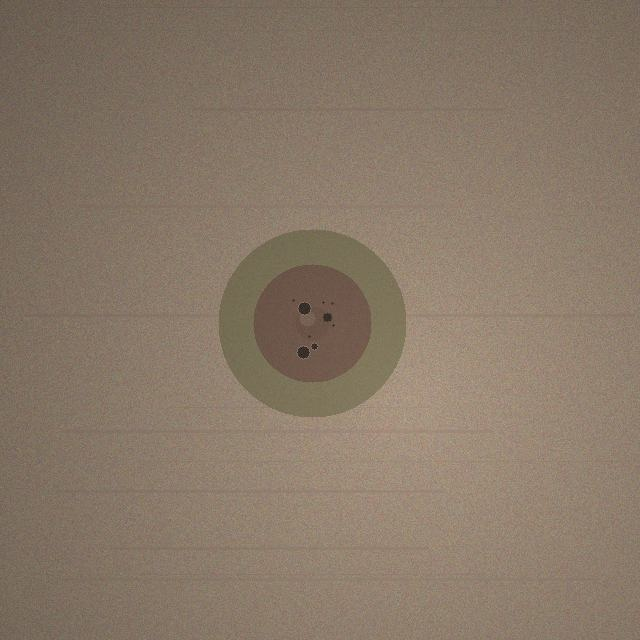shrinkage: (218, 229, 406, 417)
